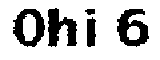0: (9, 7, 46, 49)
6: (113, 8, 151, 49)
h: (46, 3, 79, 51)
i: (82, 6, 104, 50)
